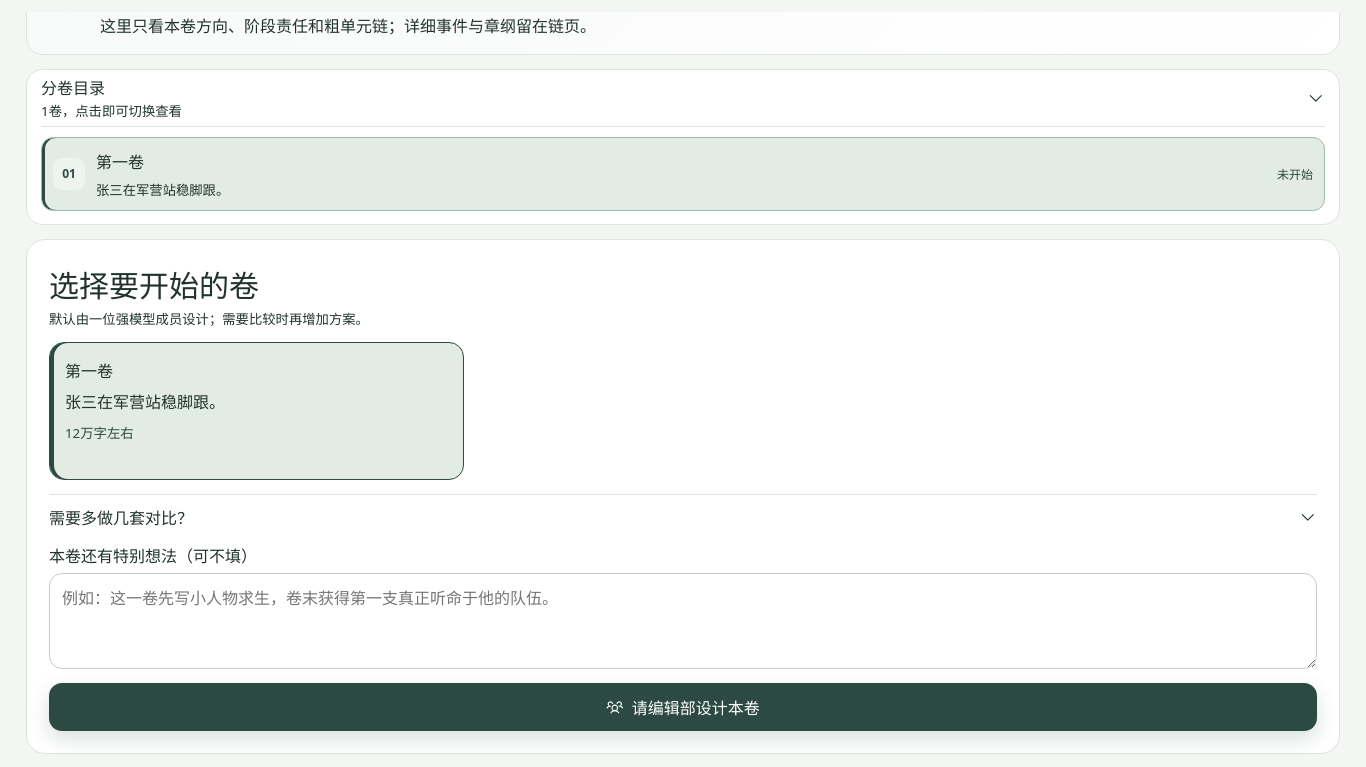
Scenario: V7卷链章创作工作台 › 卷开始前默认一套，需要比较时才展开到三个固定策划编剧席位
(page scrolled)
Click the heading "需要多做几套对比？". click: (121, 518)
box: [49,505,1317,529]
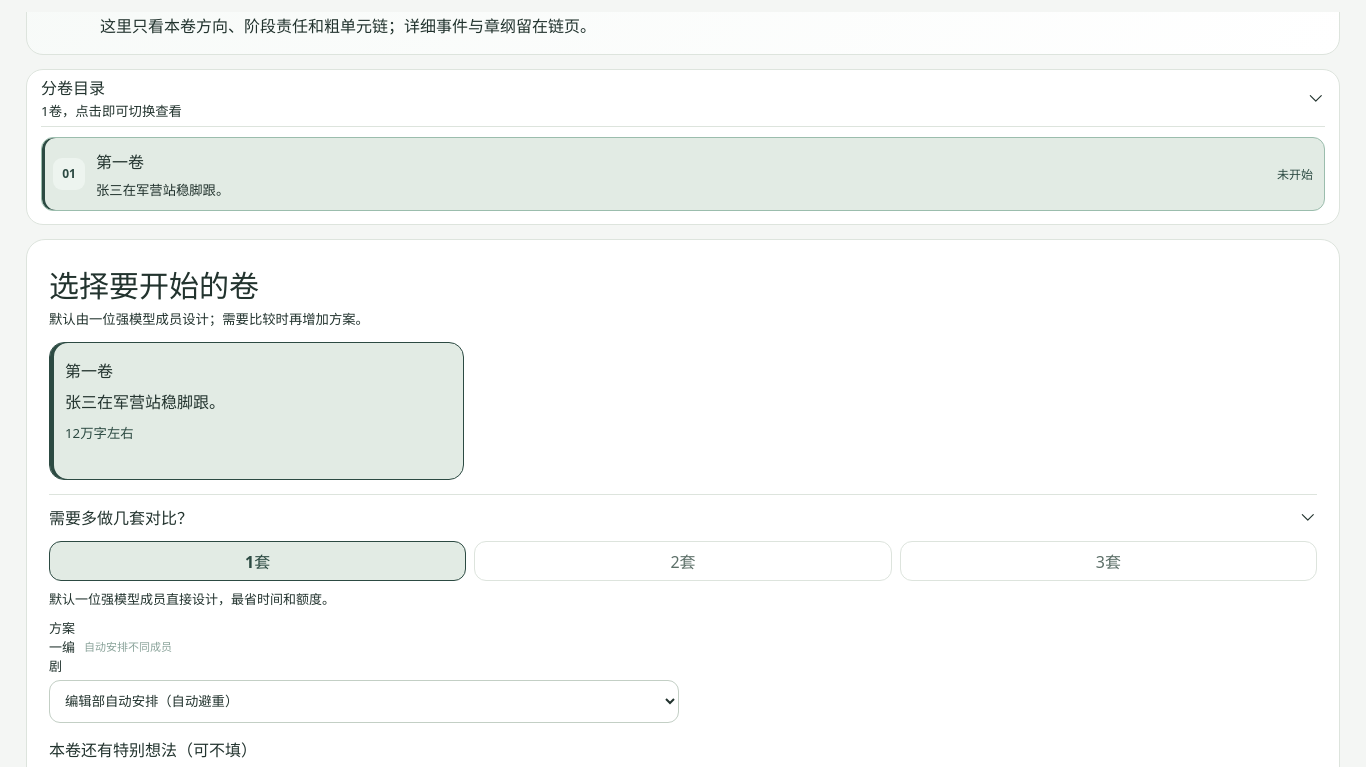
Check: the text "方案二编剧" is not shown
Check: the text "方案一编剧" is shown, box [49,618,77,675]
Click the button "3套". click: (1108, 561)
box: [900,541,1317,581]
(page scrolled)
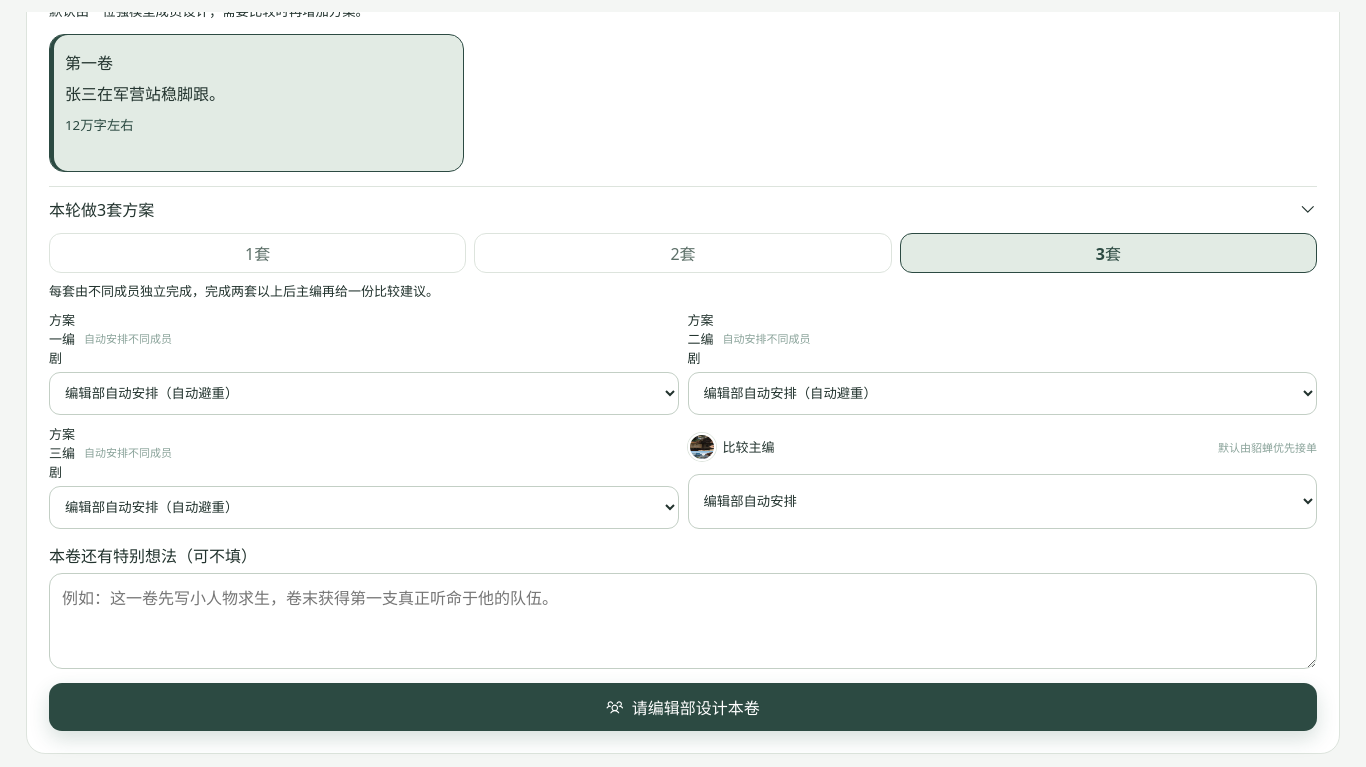
Check: the text "方案二编剧" is shown, box [688,310,716,367]
Check: the text "方案三编剧" is shown, box [49,424,77,481]
Check: the text "自动安排不同成员" is shown 3 times, box [84,330,172,346]; [722,330,810,346]; [84,444,172,460]
